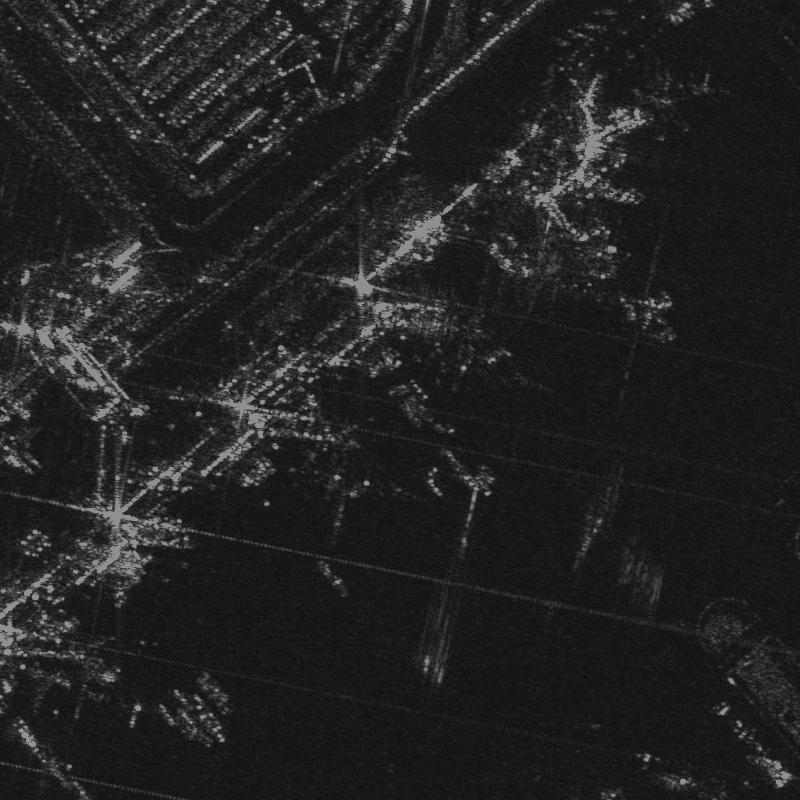A330: (31, 626, 151, 726)
Boeing737: (616, 288, 687, 346)
